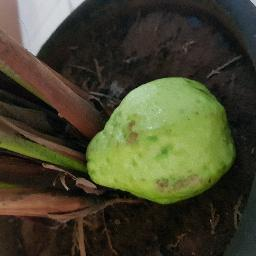Good_guava: (83, 76, 236, 204)
